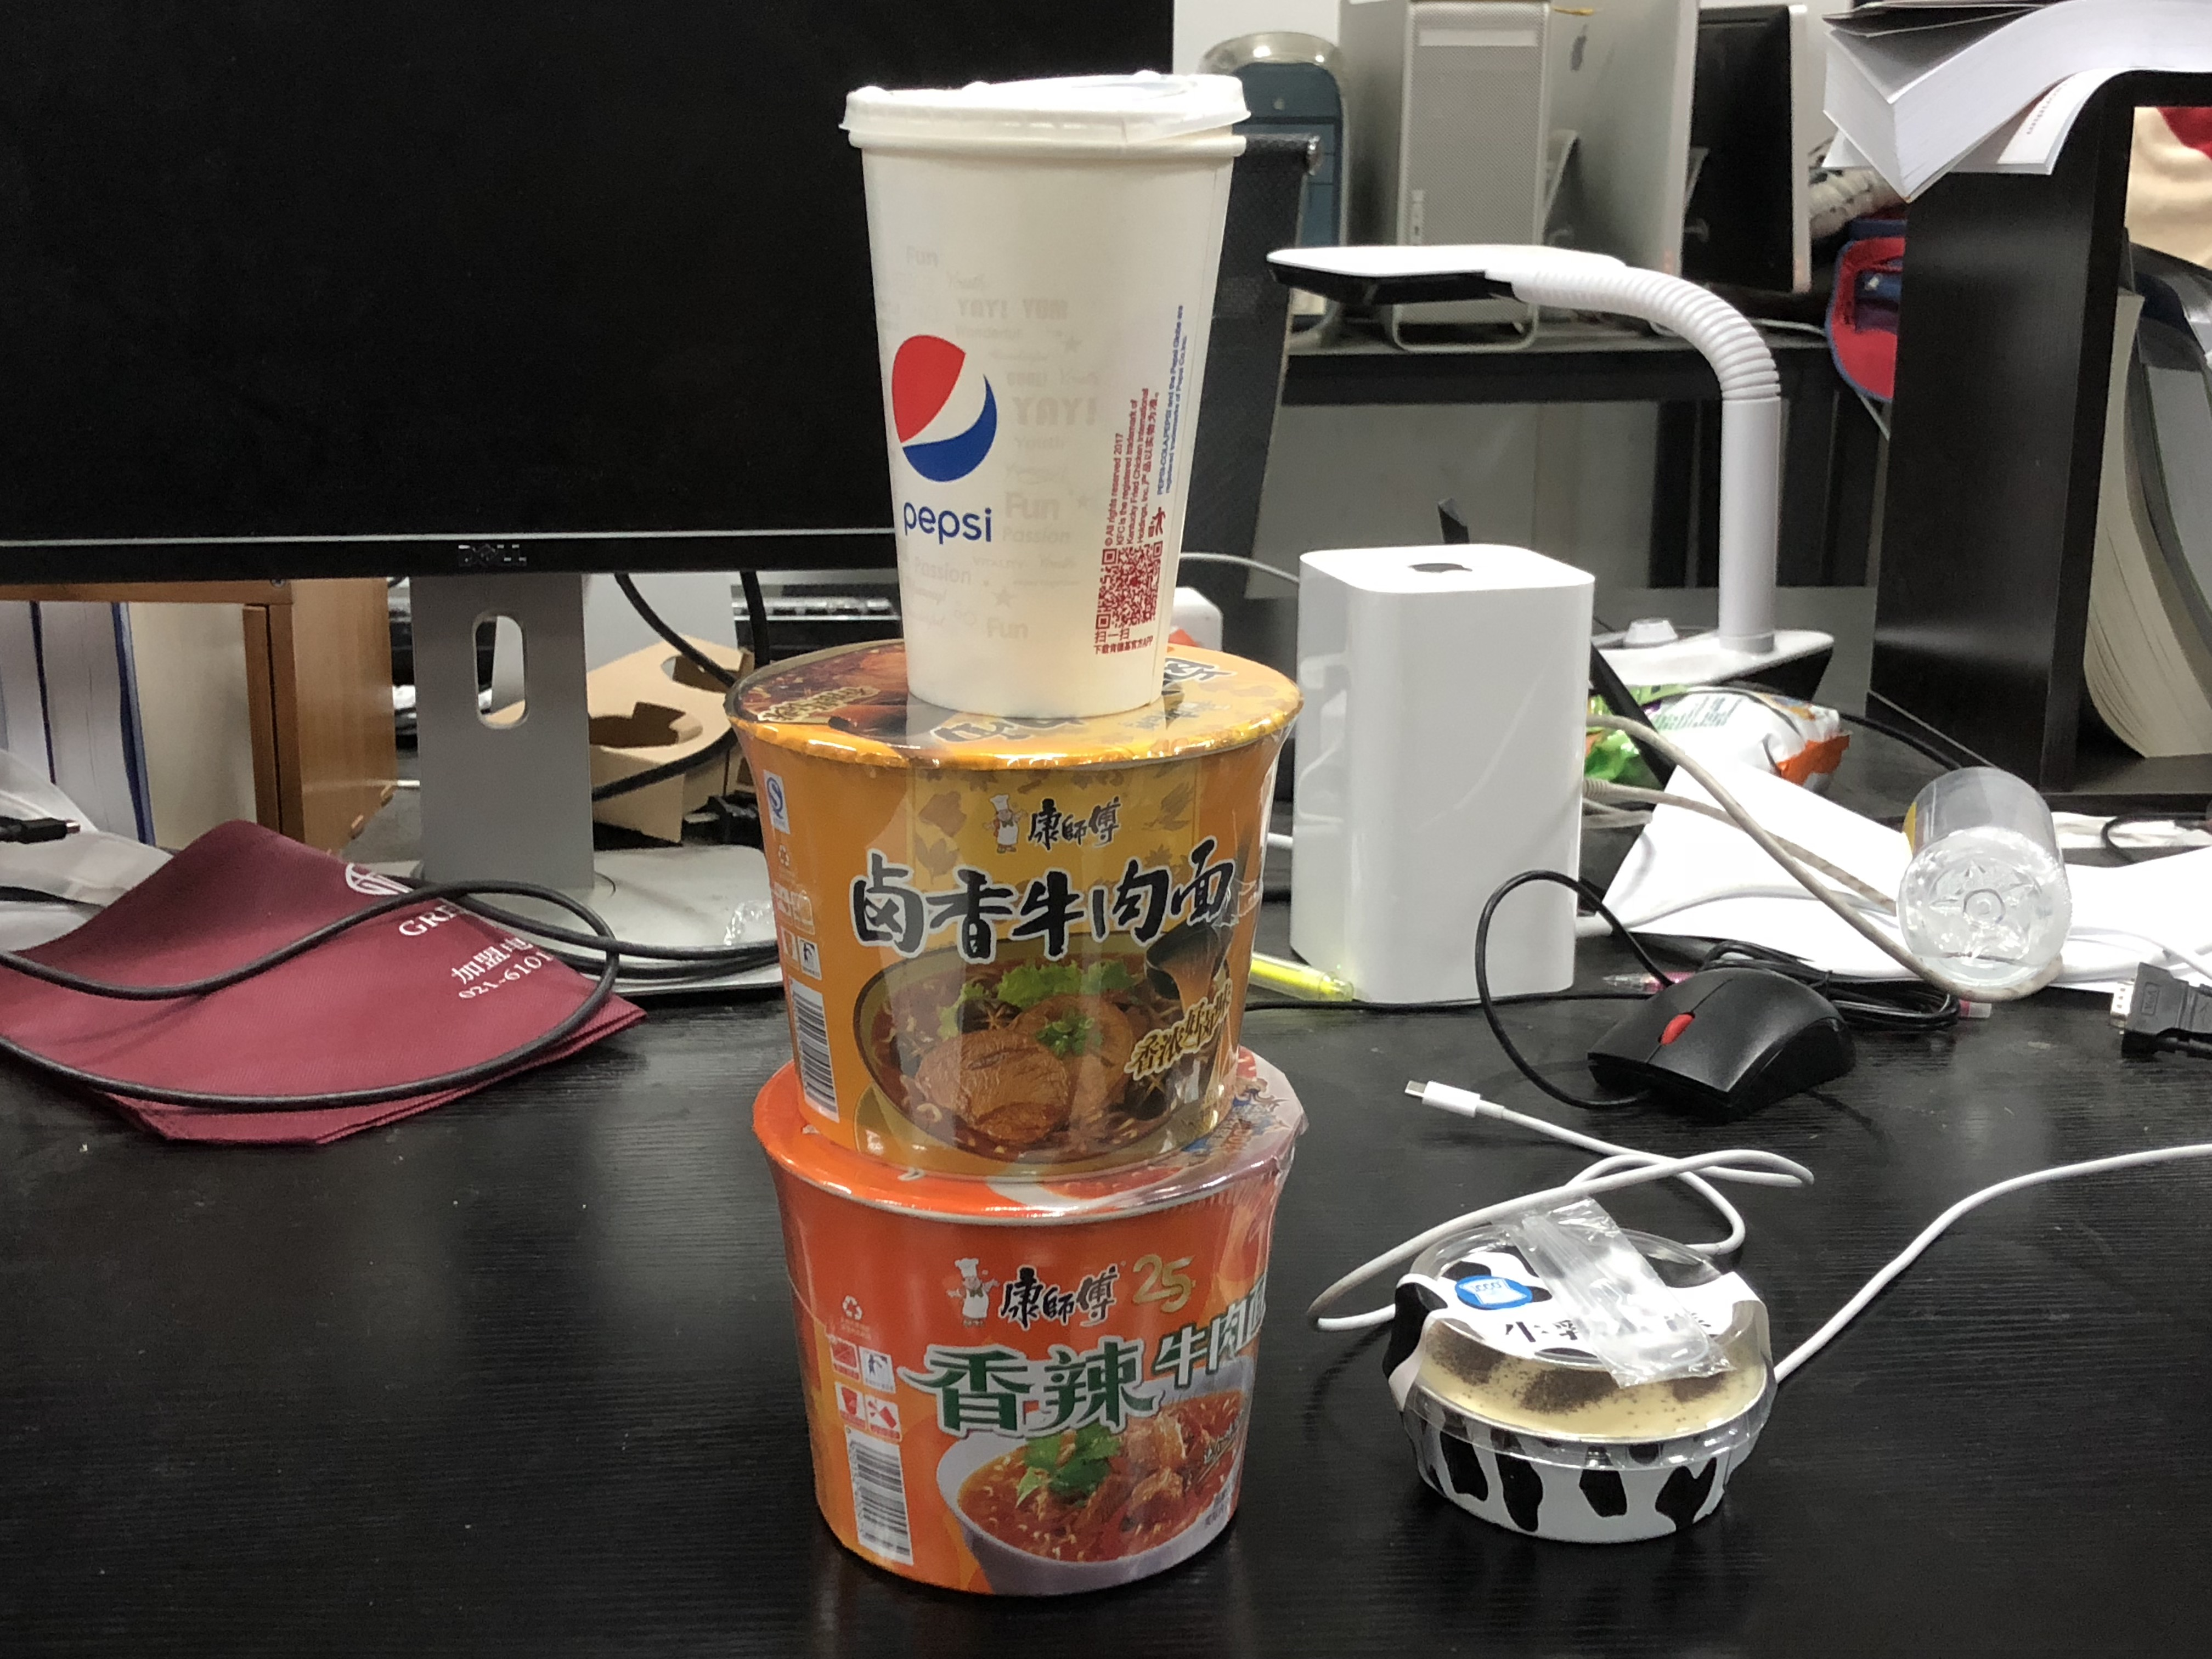luxiang: (721, 641, 1308, 1185)
xiangla: (770, 1176, 1278, 1600)
